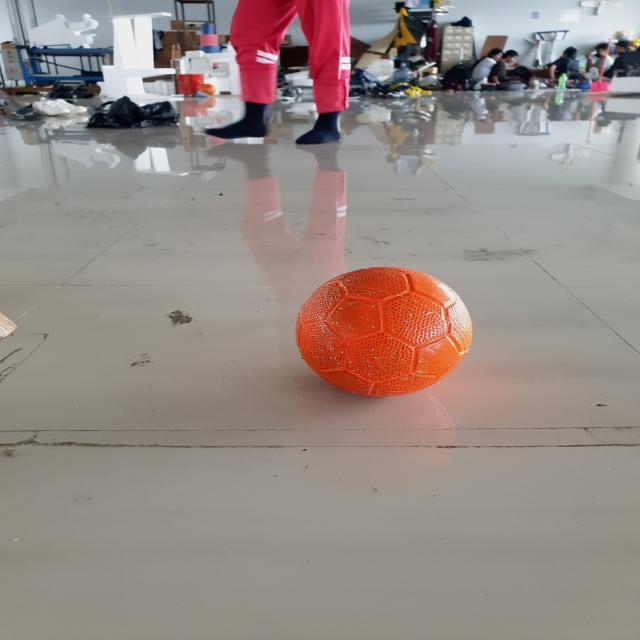bola: (294, 260, 480, 409)
